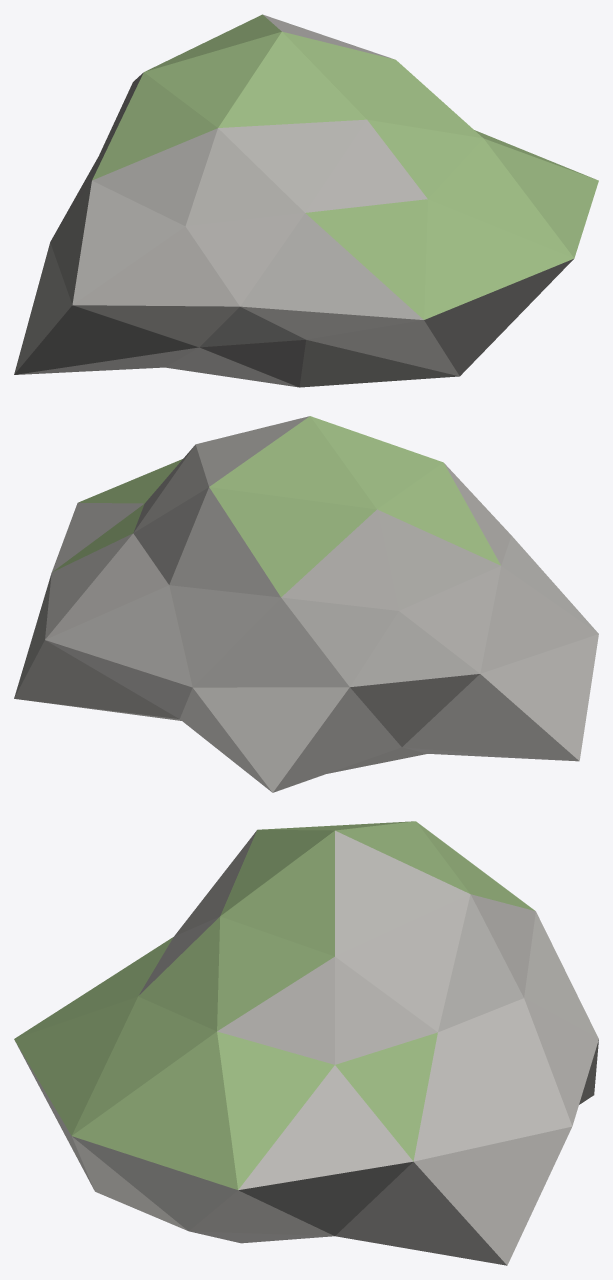
The model's file is Rock_A.fbx.
The picture shows the model from 3 angles, top to bottom: view 1: azimuth 30°, elevation 25°; view 2: azimuth 150°, elevation 25°; view 3: azimuth 270°, elevation 25°; orthographic projection. The views are drawn at different scales.
Visible parts, largest first — view 1: Rock_A; view 2: Rock_A; view 3: Rock_A.
Boxes of the visible parts, x1,y1,x2,y2 form: Rock_A: (14, 14, 598, 387); Rock_A: (14, 416, 598, 792); Rock_A: (14, 821, 598, 1265).
Size of the model in its own units: 2.59 by 1.4 by 2.14.
